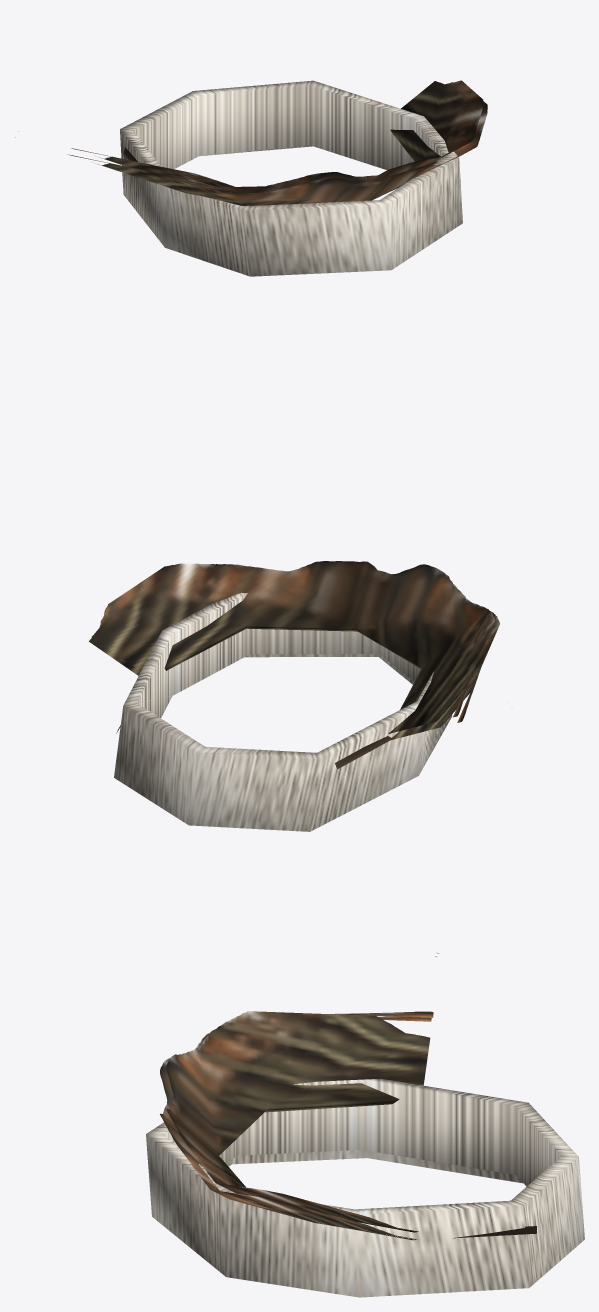
Rendered from tupi_cocar_3.dae.
3 views of the same model, one above another, from view 1: azimuth 30°, elevation 25°; view 2: azimuth 150°, elevation 25°; view 3: azimuth 270°, elevation 25° (orthographic). The views are drawn at different scales.
Visible parts, largest first — view 1: cocar_tupi_3; view 2: cocar_tupi_3; view 3: cocar_tupi_3.
Boxes of the visible parts, x1,y1,x2,y2 form: cocar_tupi_3: [15, 80, 487, 276]; cocar_tupi_3: [89, 561, 499, 831]; cocar_tupi_3: [146, 952, 584, 1297].
Size of the model in its own units: 0.8263 by 0.7321 by 0.5214.
